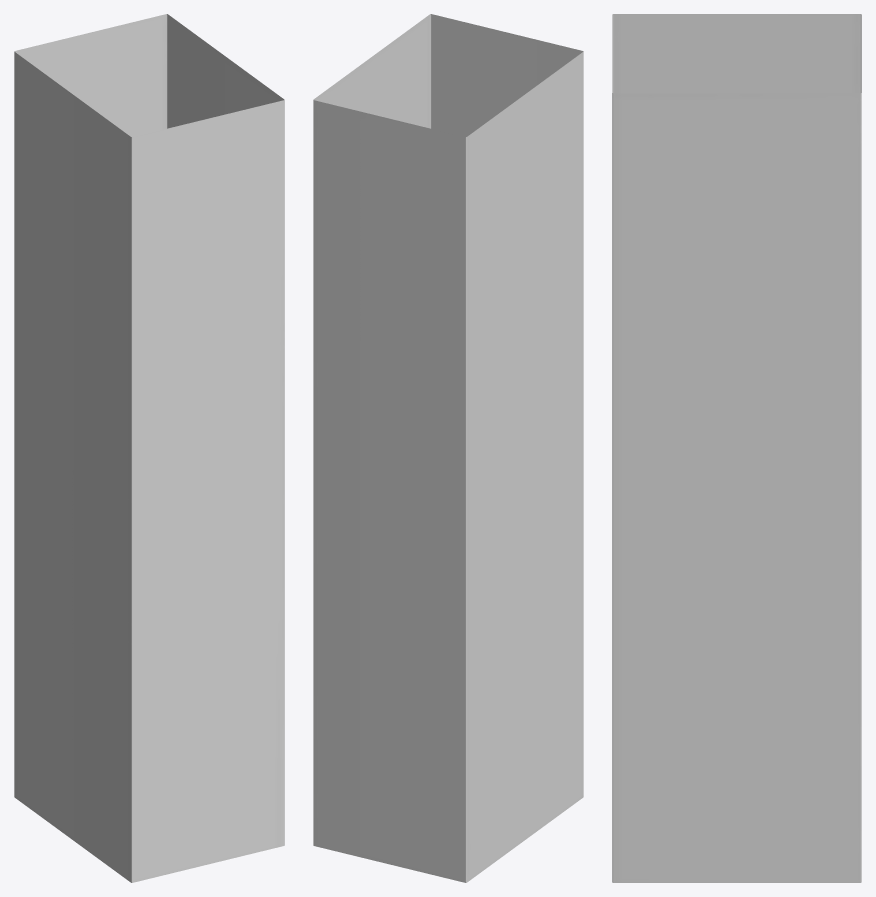
The model's file is wall pillar.fbx.
The picture shows the model from 3 angles, left to right: view 1: azimuth 30°, elevation 25°; view 2: azimuth 150°, elevation 25°; view 3: azimuth 270°, elevation 25°; orthographic projection. The views are drawn at different scales.
Parts seen in each view (by area): view 1: wall_pillar; view 2: wall_pillar; view 3: wall_pillar.
Part boxes in pixels (x1,y1,x2,y2): wall_pillar: (14, 14, 284, 882); wall_pillar: (313, 14, 583, 882); wall_pillar: (612, 14, 861, 882).
Bounding box in the file's own units: 91.66 × 426 × 122.
1 material, 1 textured.
